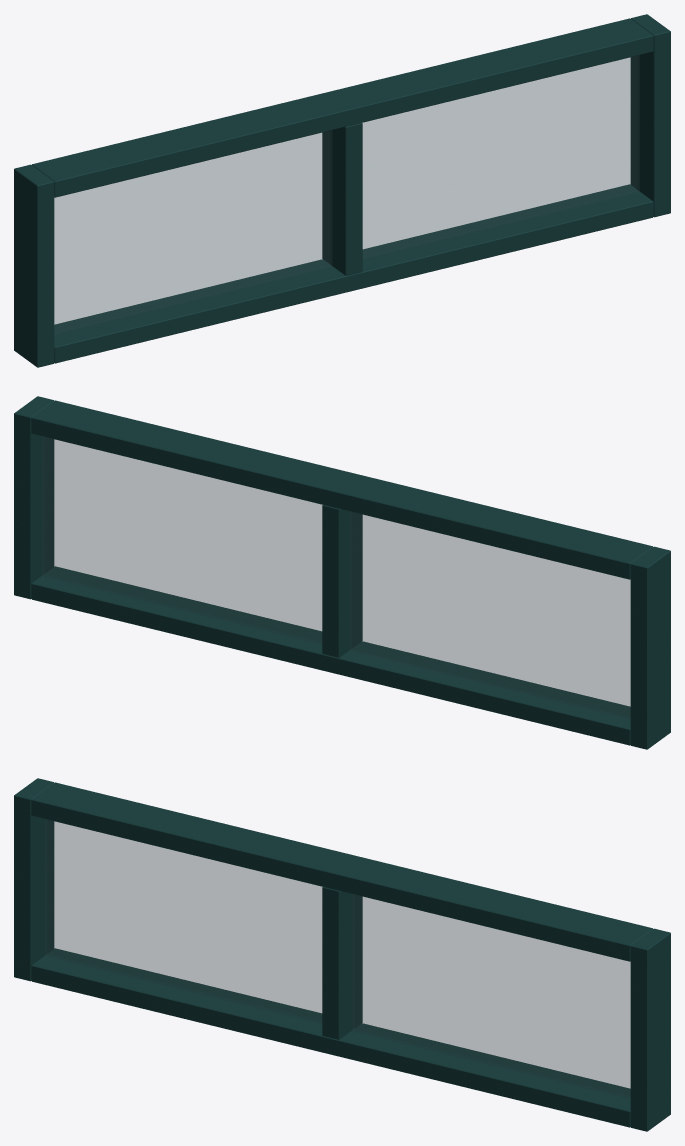
File: transom_insert_2m.glb
The picture shows the model from 3 angles, top to bottom: view 1: azimuth 30°, elevation 25°; view 2: azimuth 150°, elevation 25°; view 3: azimuth 330°, elevation 25°; orthographic projection.
Parts seen in each view (by area): view 1: transom_insert_2m; view 2: transom_insert_2m; view 3: transom_insert_2m.
Part boxes in pixels (x1,y1,x2,y2): transom_insert_2m: (14,14,670,367); transom_insert_2m: (14,396,670,749); transom_insert_2m: (14,778,670,1131).
Size of the model in its own units: 2 by 0.55 by 0.13.
2 materials, 2 textured.
